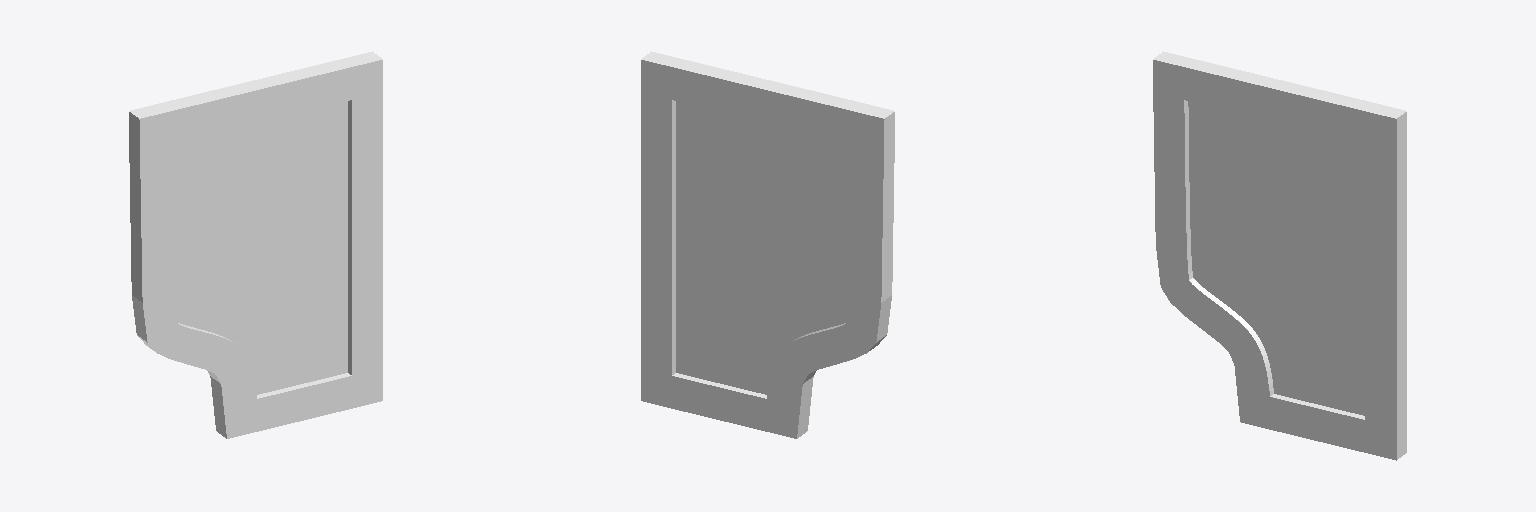
The model's file is door.obj.
The picture shows the model from 3 angles: view 1: azimuth 30°, elevation 25°; view 2: azimuth 150°, elevation 25°; view 3: azimuth 330°, elevation 25°; orthographic projection.
Visible parts, largest first — view 1: object_1; view 2: object_1; view 3: object_1.
Boxes of the visible parts, x1=… form: object_1: x1=129, y1=51, x2=382, y2=438; object_1: x1=641, y1=51, x2=894, y2=438; object_1: x1=1153, y1=51, x2=1406, y2=460.
Bounding box in the file's own units: 19.43 × 26 × 1.5.